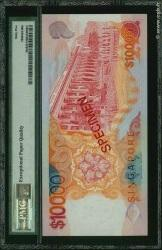10000SingaporeDollar: (42, 15, 148, 235)
